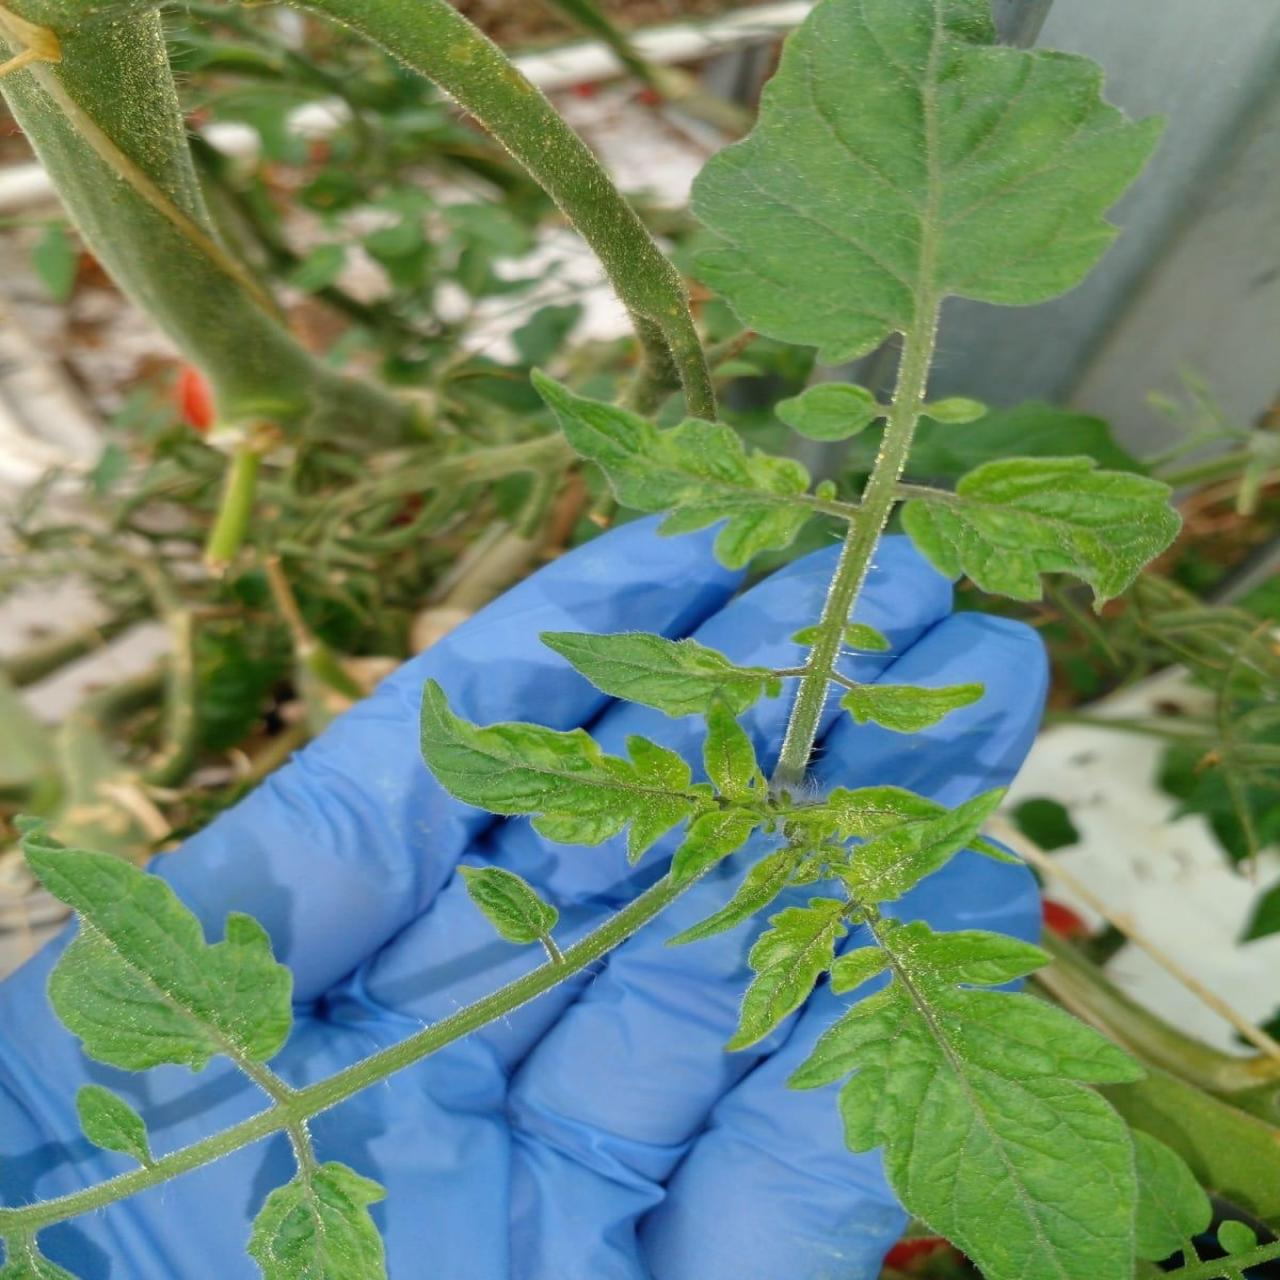T_L_R: (694, 1, 1163, 362), (790, 921, 1144, 1280), (22, 844, 290, 1073), (535, 379, 815, 568), (421, 681, 704, 862), (903, 456, 1183, 605), (542, 634, 781, 719), (728, 899, 847, 1051), (844, 791, 1003, 904), (248, 1164, 388, 1280), (668, 849, 801, 945), (458, 866, 561, 960), (788, 787, 948, 840), (670, 809, 764, 885), (840, 685, 983, 734), (704, 704, 768, 806), (79, 1085, 154, 1166)
T_S_R: (4, 879, 694, 1241), (1, 1, 413, 444), (293, 1, 717, 418), (774, 281, 948, 789)
